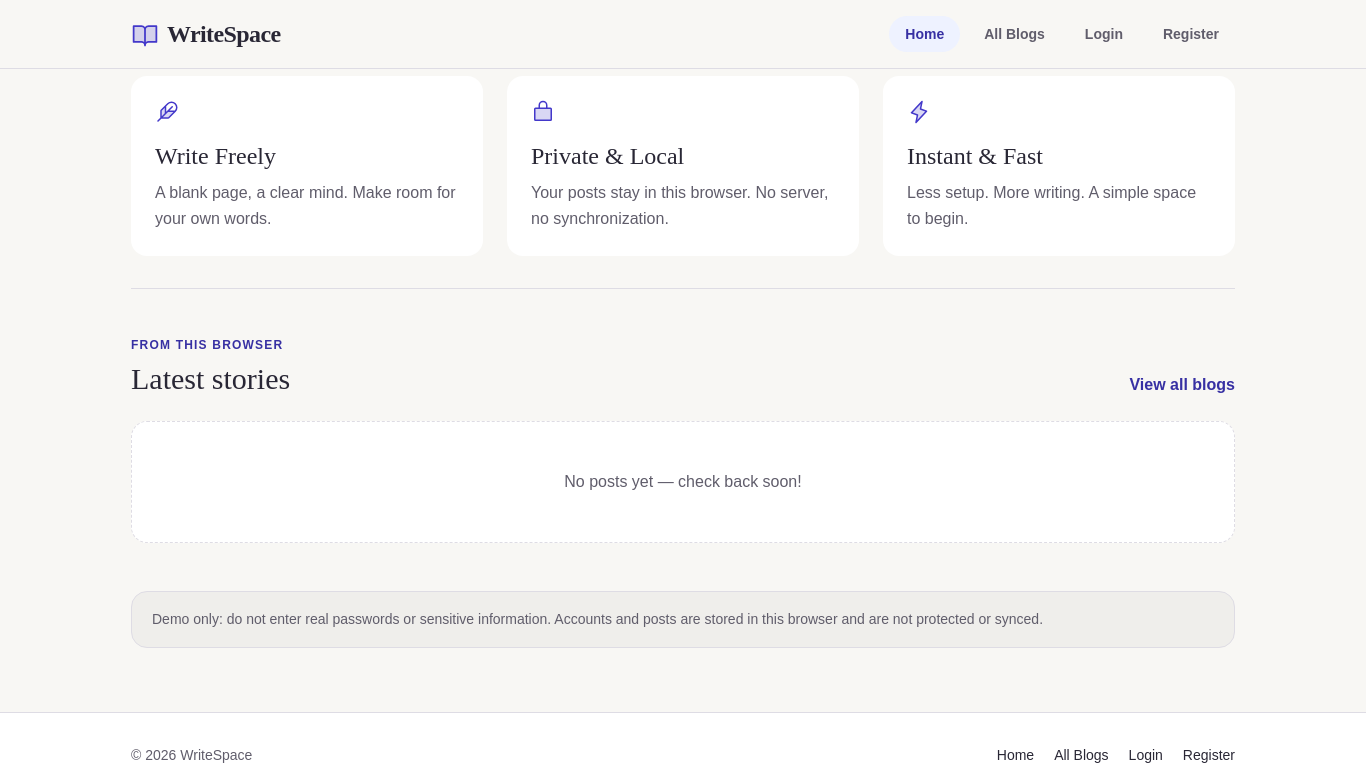
Test case: working discovery shell › navigates only after clicking View all blogs through identity routes and returns safely home
(page scrolled)
Click the link "View all blogs" at (1182, 385), box [1130,373,1235,397]
(page scrolled)
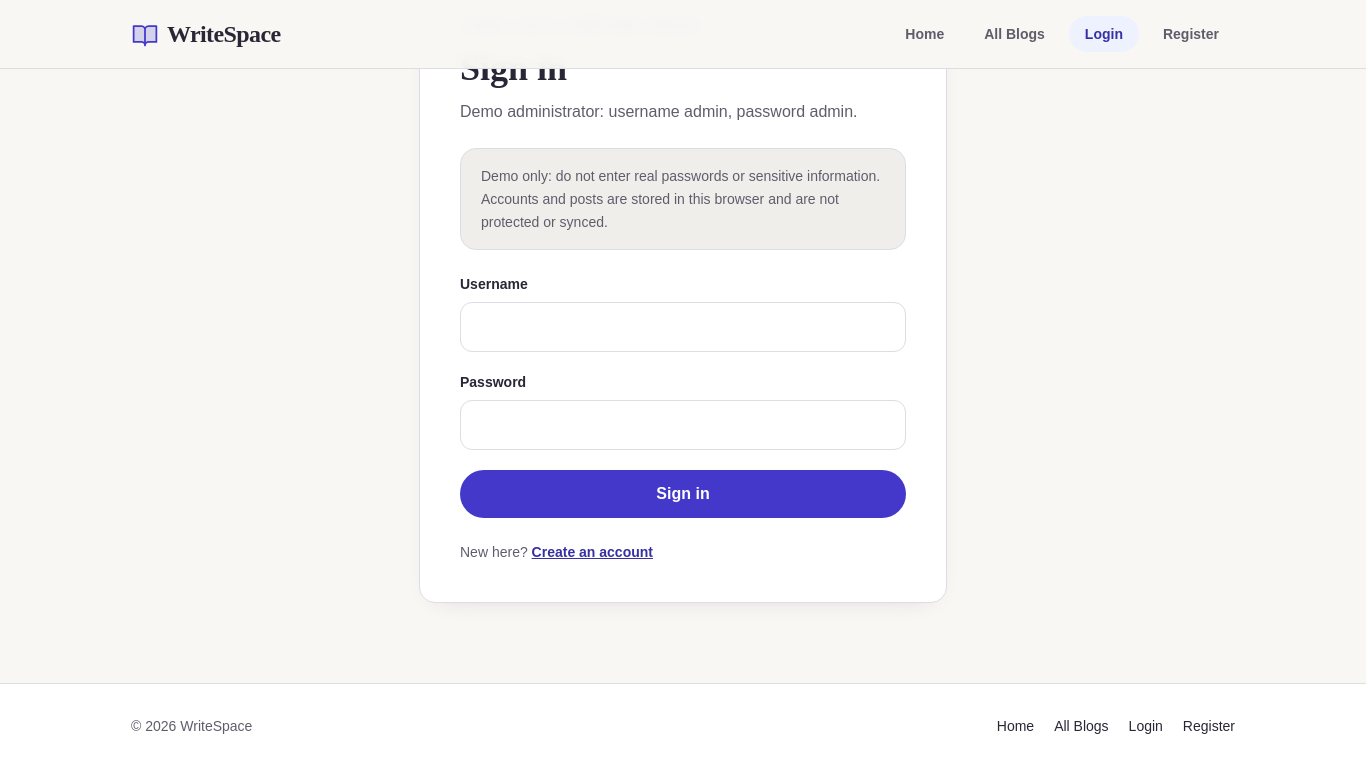
Now the heading "Sign in" is shown, box [460,48,567,88]
Click the 1st link "Home" at (925, 34), box [905,26,944,42]
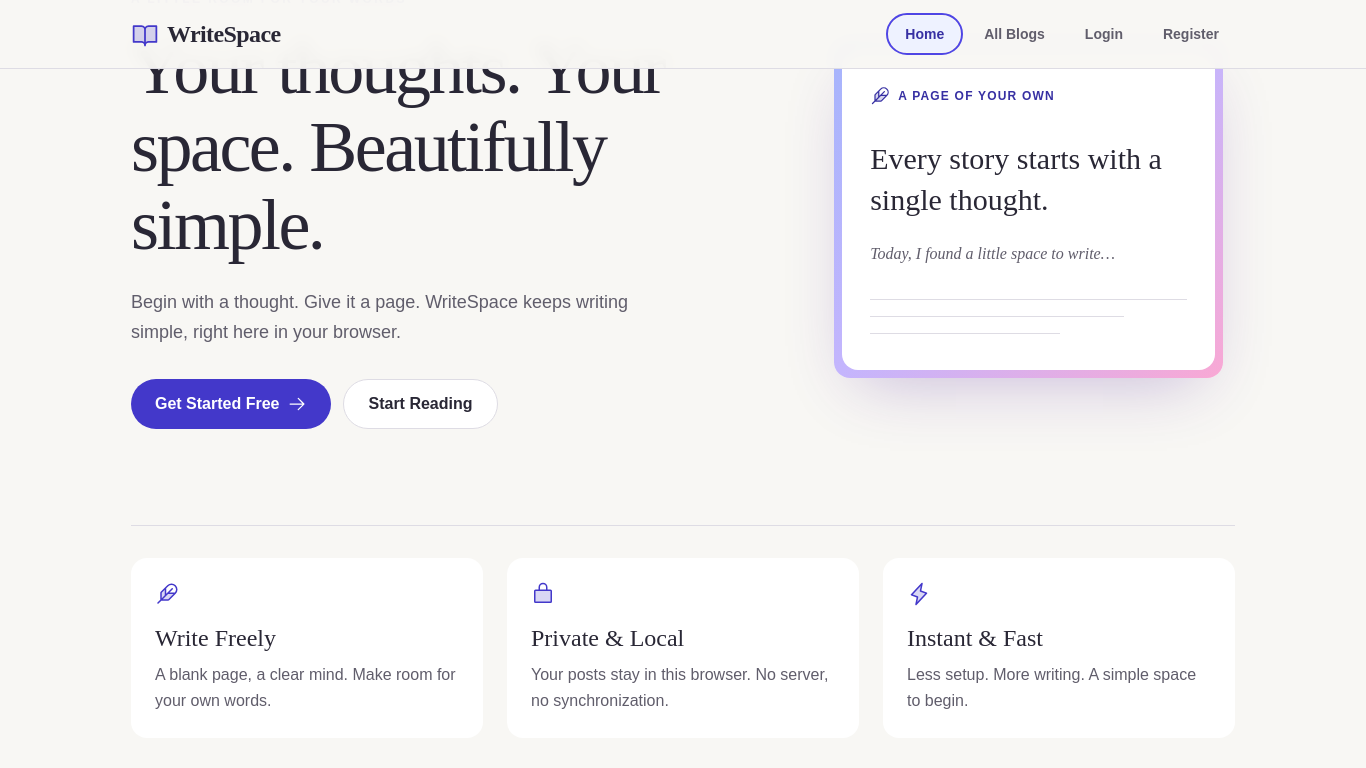
Now the heading "Your thoughts. Your space. Beautifully simple." is shown, box [131,31,707,264]
